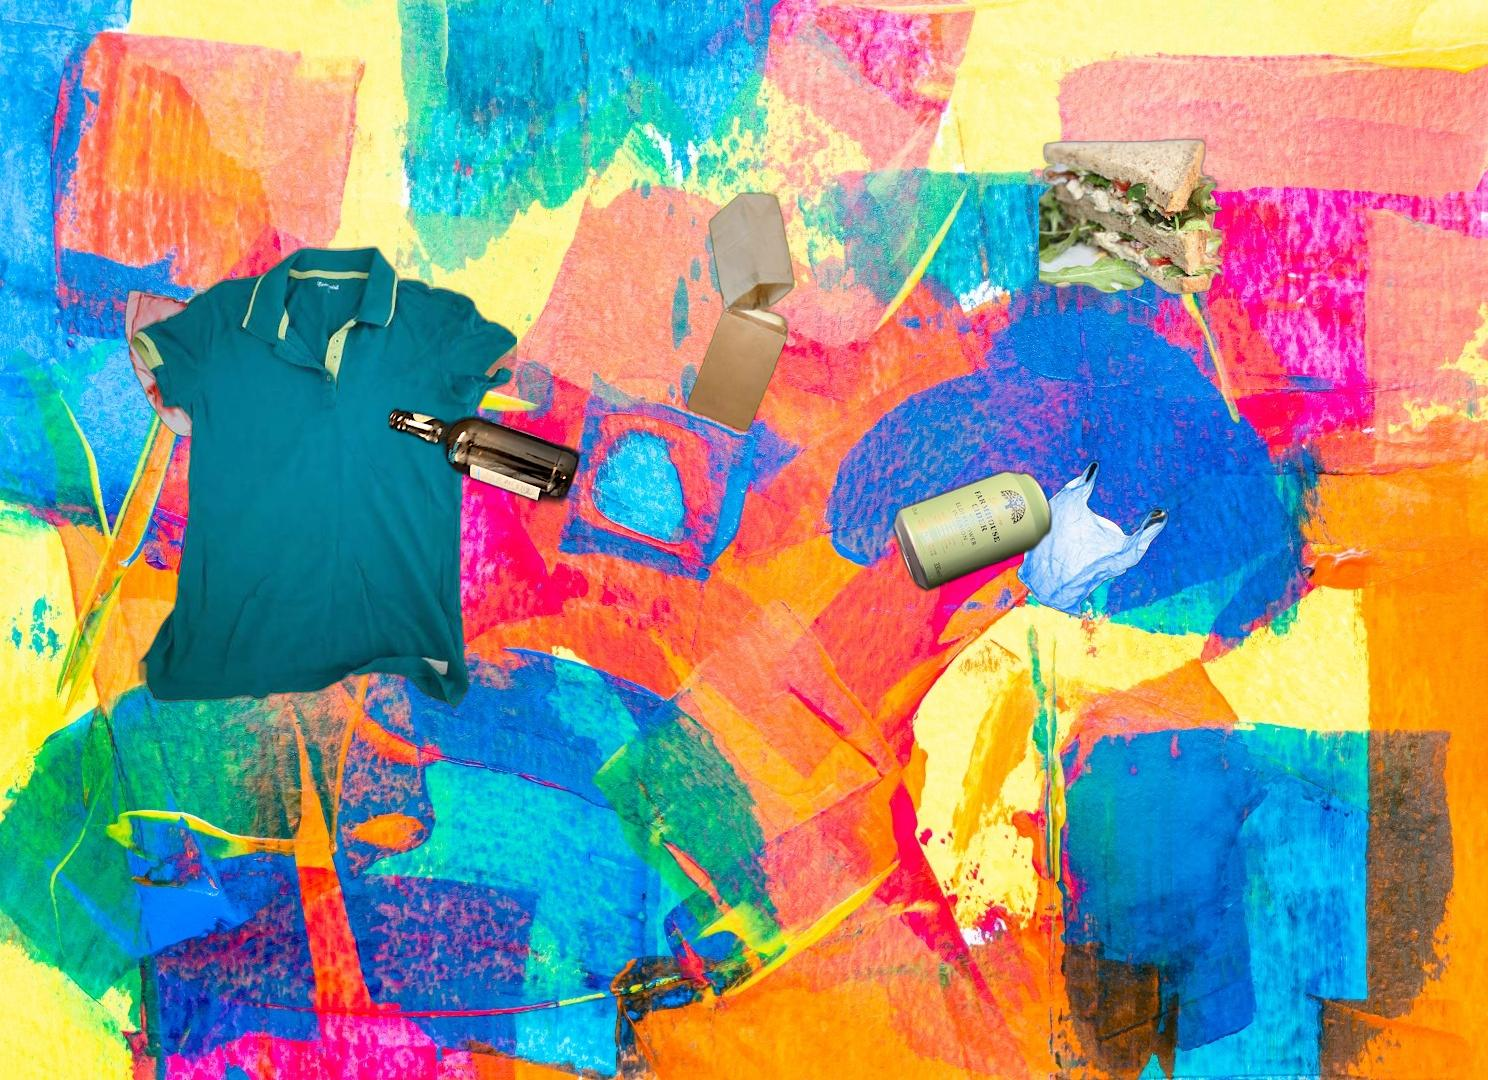biological: (1039, 136, 1222, 370)
clothes: (128, 243, 518, 714)
glass: (385, 402, 585, 509)
metal-cans: (890, 465, 1056, 596)
paper-bag: (684, 186, 798, 434)
plastic-bag: (122, 286, 332, 578), (1014, 459, 1188, 621)
trashbox-cardboard: (1449, 414, 1488, 1080)
